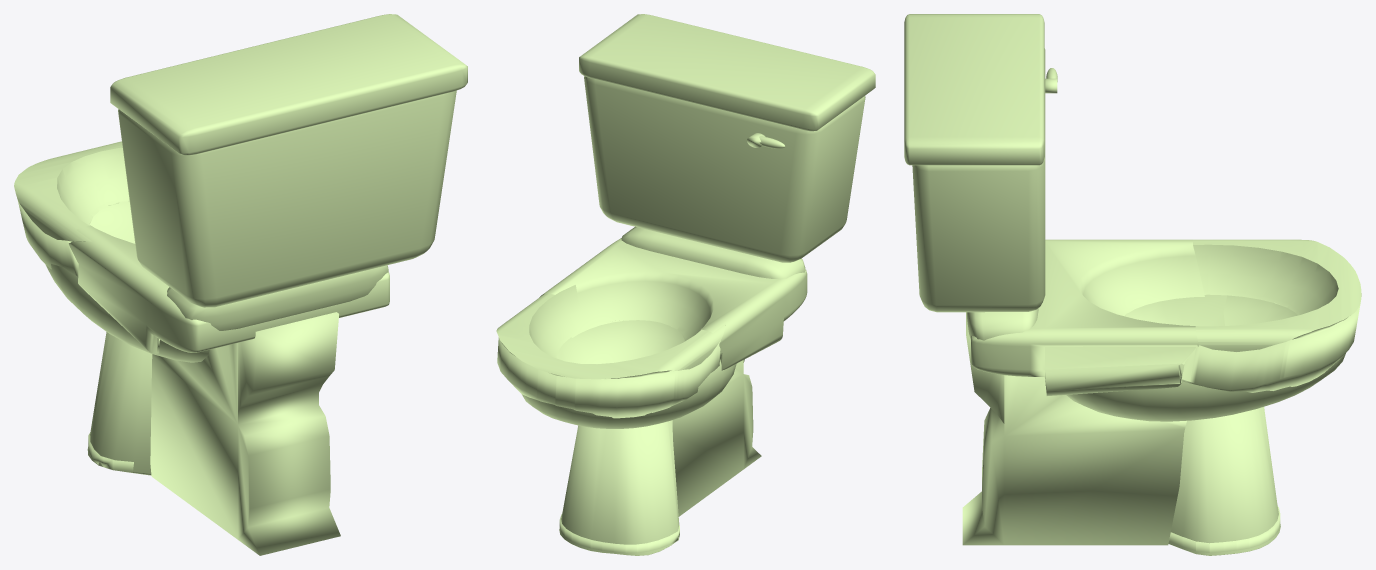
File: toilet.glb
The picture shows the model from 3 angles, left to right: view 1: azimuth 30°, elevation 25°; view 2: azimuth 150°, elevation 25°; view 3: azimuth 270°, elevation 25°; orthographic projection. The views are drawn at different scales.
Parts seen in each view (by area): view 1: Sphere; view 2: Sphere; view 3: Sphere.
Boxes of the visible parts, left/top/right/bottom form: Sphere: left=14, top=14, right=467, bottom=555; Sphere: left=496, top=14, right=875, bottom=555; Sphere: left=904, top=14, right=1361, bottom=555.
Size of the model in its own units: 6.06 by 9.47 by 8.75.
